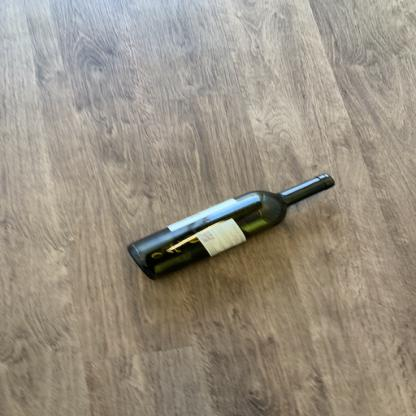trash: (121, 174, 336, 283)
